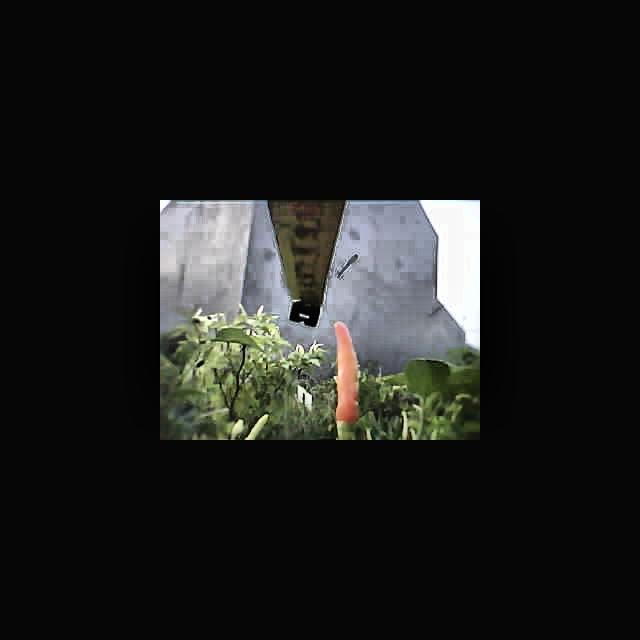Cabai: (329, 322, 366, 429)
